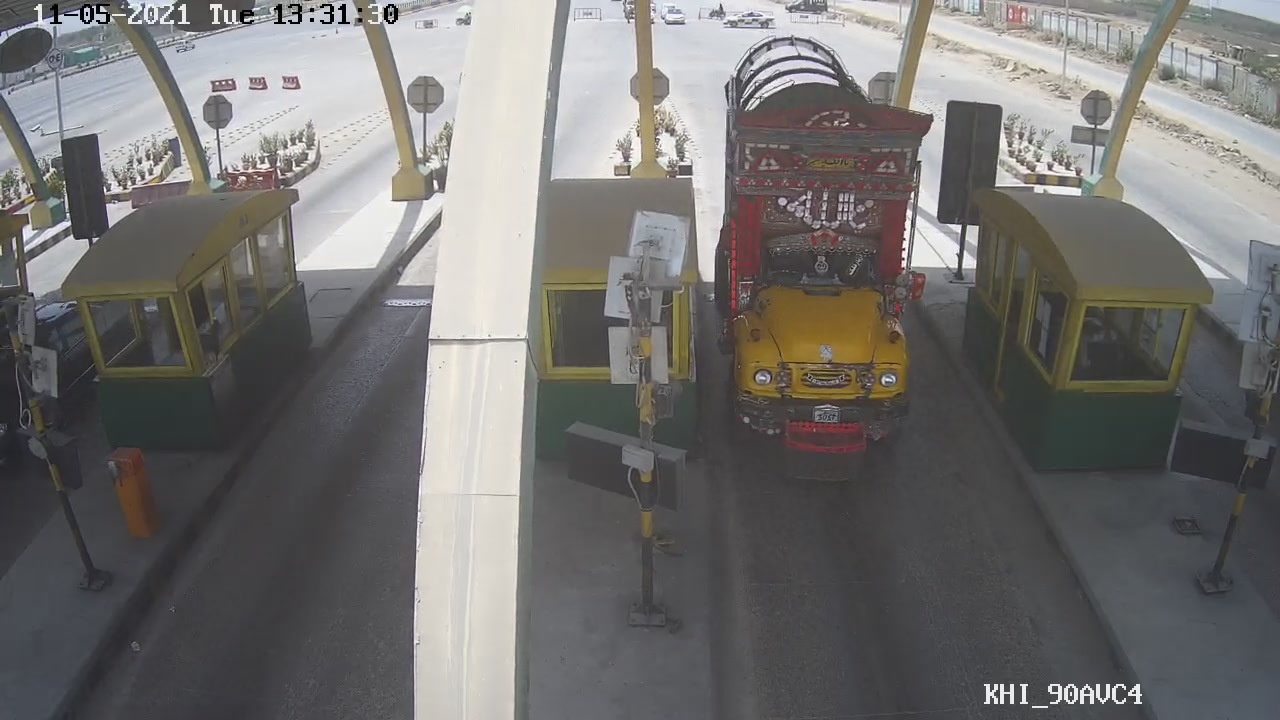F5: (710, 28, 937, 492)
